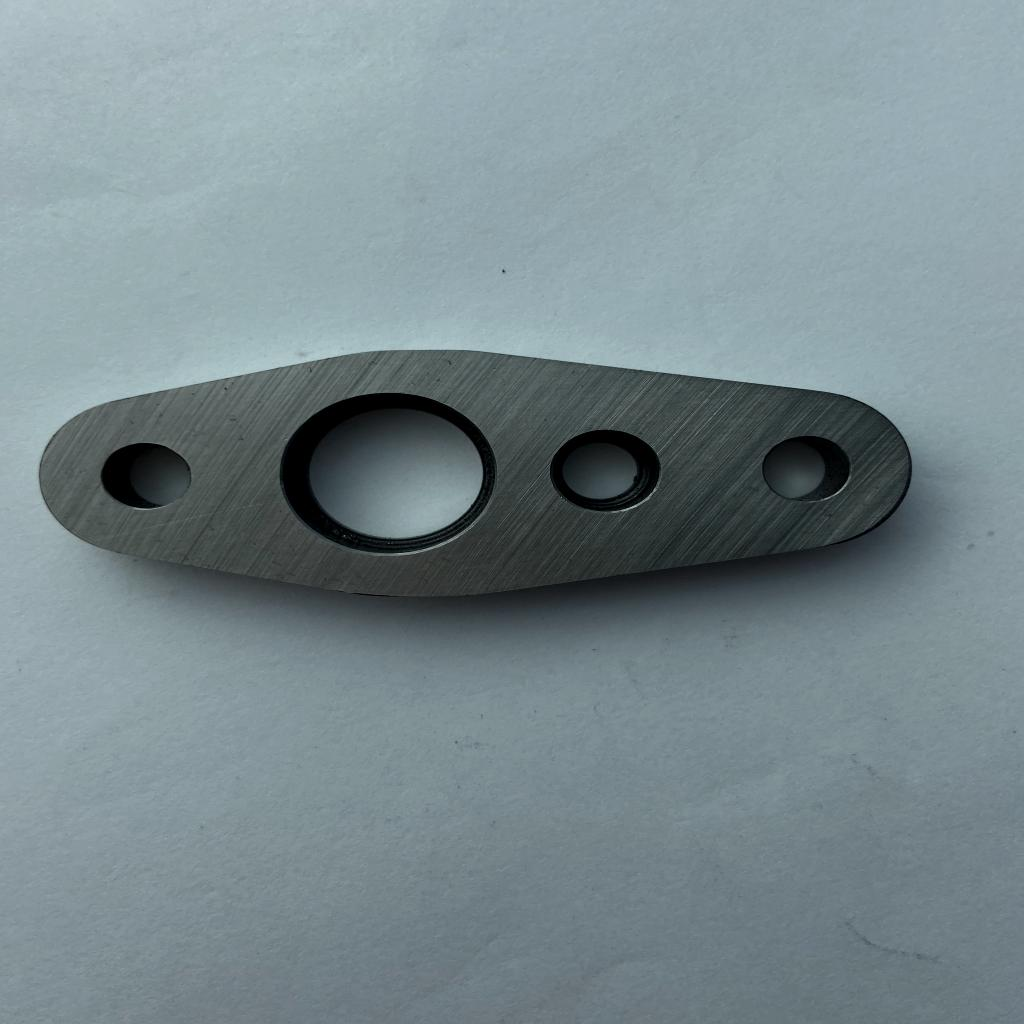lines: (363, 355, 465, 388), (219, 384, 249, 444)
